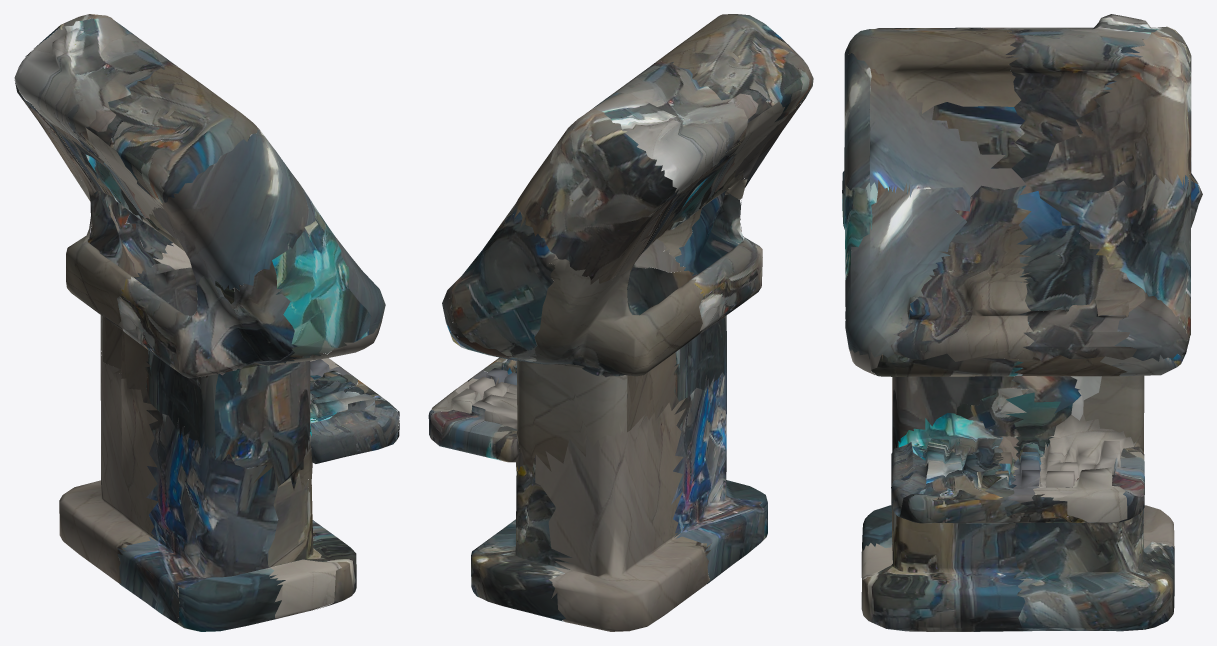
The model's file is blue_cartoon_sci_fi_job_terminal_kiosk_01.glb.
3 views of the same model, side by side, from view 1: azimuth 30°, elevation 25°; view 2: azimuth 150°, elevation 25°; view 3: azimuth 270°, elevation 25° (orthographic). The views are drawn at different scales.
Parts seen in each view (by area): view 1: tripo_node_9f8044b4-3493-4281-b942-a4d46c05a0ab; view 2: tripo_node_9f8044b4-3493-4281-b942-a4d46c05a0ab; view 3: tripo_node_9f8044b4-3493-4281-b942-a4d46c05a0ab.
Part boxes in pixels (x1,y1,x2,y2): tripo_node_9f8044b4-3493-4281-b942-a4d46c05a0ab: (14, 14, 399, 631); tripo_node_9f8044b4-3493-4281-b942-a4d46c05a0ab: (428, 14, 813, 631); tripo_node_9f8044b4-3493-4281-b942-a4d46c05a0ab: (842, 14, 1202, 631).
Size of the model in its own units: 0.5464 by 0.9991 by 0.611.
Materials: 1 (1 with a texture image).
